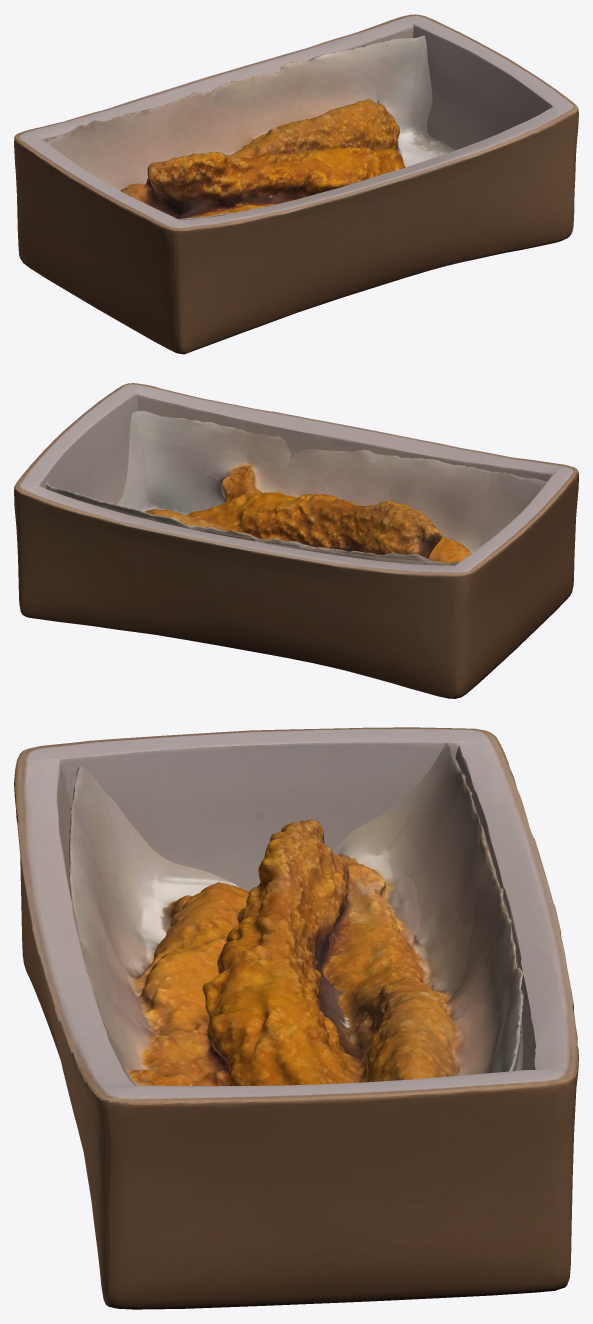
Rendered from tenders.glb.
3 views of the same model, one above another, from view 1: azimuth 30°, elevation 25°; view 2: azimuth 150°, elevation 25°; view 3: azimuth 270°, elevation 25° (orthographic). The views are drawn at different scales.
Parts seen in each view (by area): view 1: /Root/Scenes/Scene/Object_37/Object_38/Object_39/Submesh_0, /Root/Scenes/Scene/Object_37/Object_42/Submesh_0; view 2: /Root/Scenes/Scene/Object_37/Object_38/Object_39/Submesh_0, /Root/Scenes/Scene/Object_37/Object_42/Submesh_0; view 3: /Root/Scenes/Scene/Object_37/Object_38/Object_39/Submesh_0, /Root/Scenes/Scene/Object_37/Object_42/Submesh_0.
Part boxes in pixels (bbox=[...]): /Root/Scenes/Scene/Object_37/Object_38/Object_39/Submesh_0: bbox=[14, 14, 578, 354]; /Root/Scenes/Scene/Object_37/Object_42/Submesh_0: bbox=[43, 35, 455, 220]; /Root/Scenes/Scene/Object_37/Object_38/Object_39/Submesh_0: bbox=[14, 383, 578, 698]; /Root/Scenes/Scene/Object_37/Object_42/Submesh_0: bbox=[46, 410, 546, 565]; /Root/Scenes/Scene/Object_37/Object_38/Object_39/Submesh_0: bbox=[14, 727, 578, 1309]; /Root/Scenes/Scene/Object_37/Object_42/Submesh_0: bbox=[69, 743, 523, 1086].
Bounding box in the file's own units: 0.2283 × 0.0631 × 0.1446.
2 materials, 2 textured.
